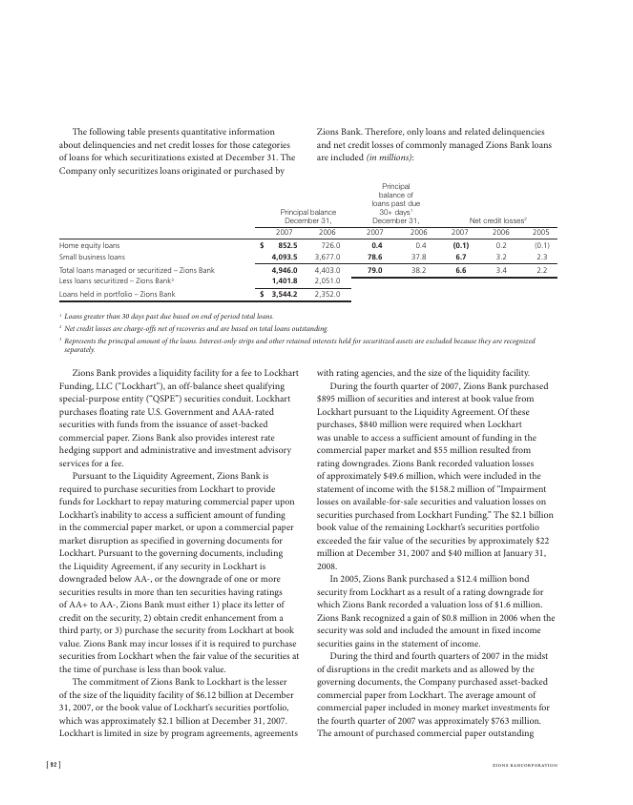table: (54, 180, 560, 307)
